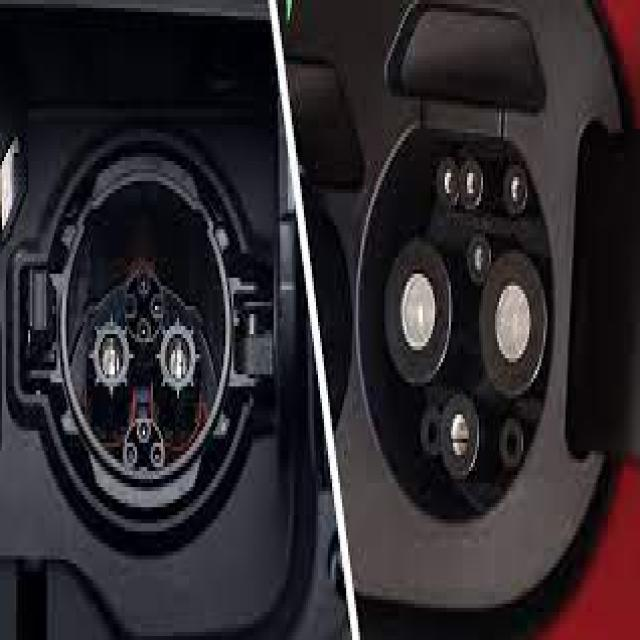CHAdeMO: (48, 181, 225, 478)
